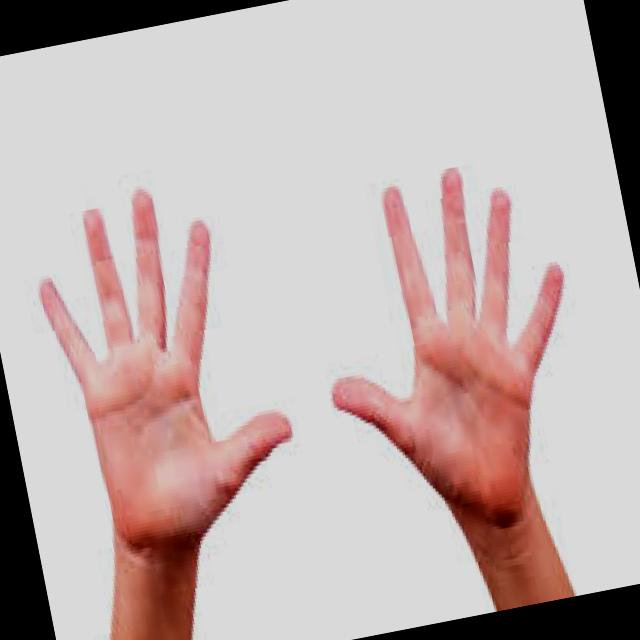Hand: (284, 136, 612, 564), (14, 159, 321, 593)
